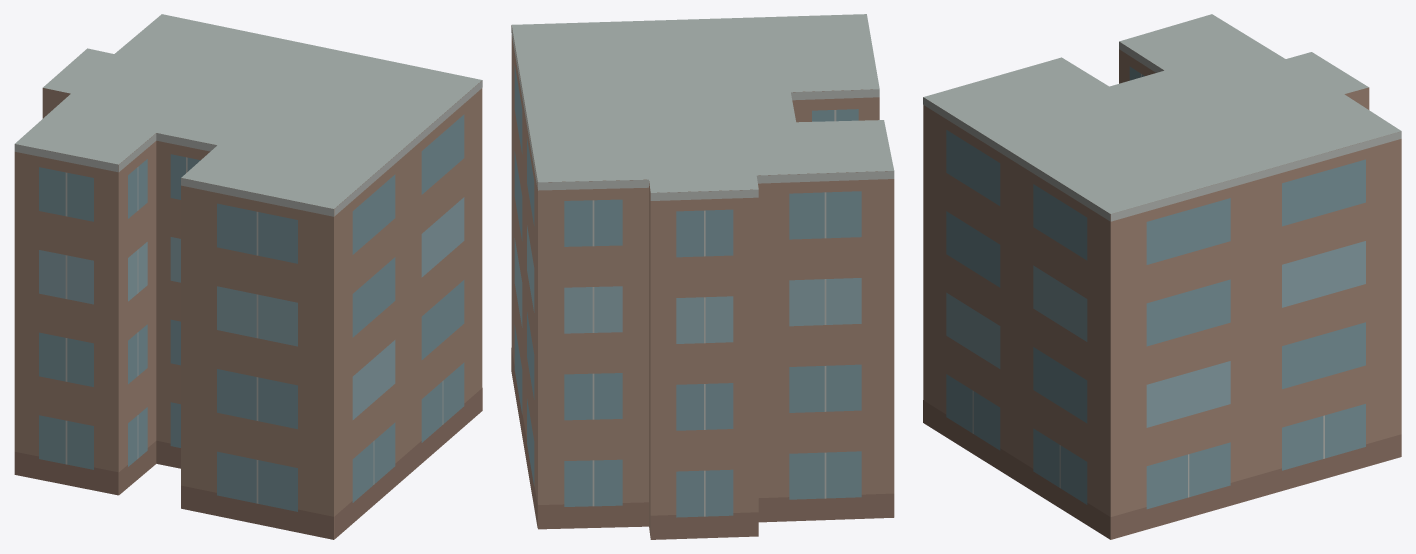
Rendered from survey-upis-32660196.glb.
3 renders of one model, left to right at view 1: azimuth 30°, elevation 25°; view 2: azimuth 150°, elevation 25°; view 3: azimuth 270°, elevation 25°, orthographic. The views are drawn at different scales.
Visible parts, largest first — view 1: survey-upis-32660196.tmp; view 2: survey-upis-32660196.tmp; view 3: survey-upis-32660196.tmp.
Boxes of the visible parts, <box> form: survey-upis-32660196.tmp: <box>14,14,482,539</box>; survey-upis-32660196.tmp: <box>511,14,894,539</box>; survey-upis-32660196.tmp: <box>923,14,1401,539</box>.
Bounding box in the file's own units: 13.71 × 10.4 × 13.85.
